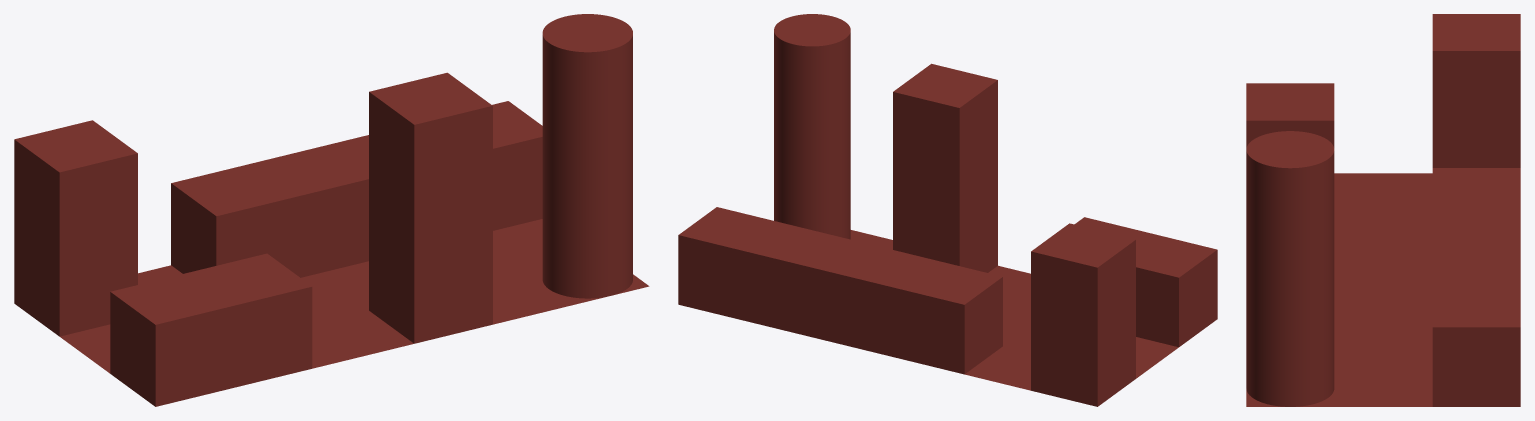
The model's file is traci.dae.
3 renders of one model, left to right at view 1: azimuth 30°, elevation 25°; view 2: azimuth 150°, elevation 25°; view 3: azimuth 270°, elevation 25°, orthographic. The views are drawn at different scales.
Visible parts, largest first — view 1: a935540c-8134-41b5-87d1-77652f65c04a, a64cf3db-9360-457a-9637-e046e59f5c60, a7d3d59e-0b08-4897-8ff7-1239778c3da5, dffc9284-0987-4572-b6db-2315f5507689, e23f9bdf-29c5-4ebb-a9e8-d4ea93121c01, a37fd0b4-27f4-47b8-91ef-c6e6aa915bf3; view 2: a64cf3db-9360-457a-9637-e046e59f5c60, a935540c-8134-41b5-87d1-77652f65c04a, e23f9bdf-29c5-4ebb-a9e8-d4ea93121c01, a7d3d59e-0b08-4897-8ff7-1239778c3da5, dffc9284-0987-4572-b6db-2315f5507689, a37fd0b4-27f4-47b8-91ef-c6e6aa915bf3; view 3: a7d3d59e-0b08-4897-8ff7-1239778c3da5, a37fd0b4-27f4-47b8-91ef-c6e6aa915bf3, a64cf3db-9360-457a-9637-e046e59f5c60, e23f9bdf-29c5-4ebb-a9e8-d4ea93121c01, a935540c-8134-41b5-87d1-77652f65c04a.
Part boxes in pixels (<box>): a935540c-8134-41b5-87d1-77652f65c04a: <box>369,72,492,343</box>; a64cf3db-9360-457a-9637-e046e59f5c60: <box>171,101,542,277</box>; a7d3d59e-0b08-4897-8ff7-1239778c3da5: <box>542,14,632,298</box>; dffc9284-0987-4572-b6db-2315f5507689: <box>110,253,312,406</box>; e23f9bdf-29c5-4ebb-a9e8-d4ea93121c01: <box>14,120,137,336</box>; a37fd0b4-27f4-47b8-91ef-c6e6aa915bf3: <box>60,219,649,373</box>; a64cf3db-9360-457a-9637-e046e59f5c60: <box>678,207,1002,374</box>; a935540c-8134-41b5-87d1-77652f65c04a: <box>893,63,997,272</box>; e23f9bdf-29c5-4ebb-a9e8-d4ea93121c01: <box>1031,223,1135,406</box>; a7d3d59e-0b08-4897-8ff7-1239778c3da5: <box>774,14,850,239</box>; dffc9284-0987-4572-b6db-2315f5507689: <box>1074,217,1217,347</box>; a37fd0b4-27f4-47b8-91ef-c6e6aa915bf3: <box>850,230,1178,390</box>; a7d3d59e-0b08-4897-8ff7-1239778c3da5: <box>1246,131,1334,406</box>; a37fd0b4-27f4-47b8-91ef-c6e6aa915bf3: <box>1246,173,1432,406</box>; a64cf3db-9360-457a-9637-e046e59f5c60: <box>1432,168,1520,406</box>; e23f9bdf-29c5-4ebb-a9e8-d4ea93121c01: <box>1432,14,1520,167</box>; a935540c-8134-41b5-87d1-77652f65c04a: <box>1246,83,1334,149</box>.
Bounding box in the file's own units: 94.48 × 46.8 × 45.
